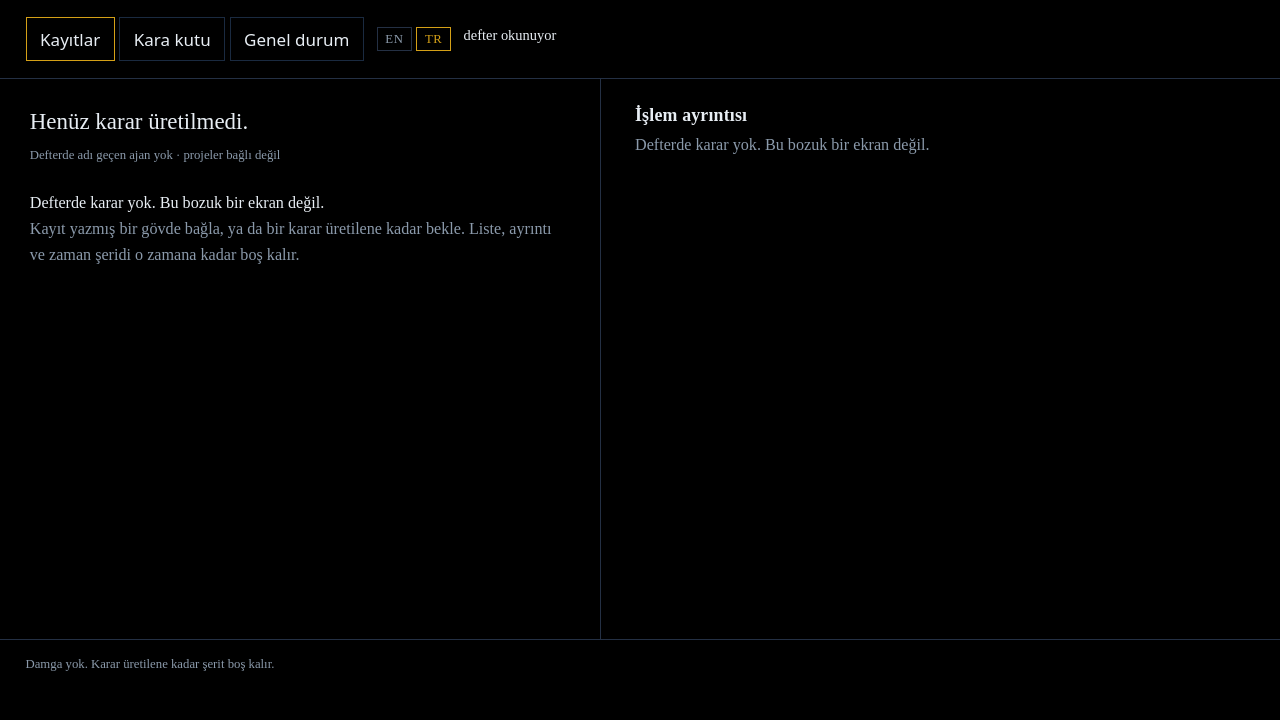
it: R11-2 approval confirmation stays on its row › closes the list confirmation when the row changes from A to B and does not approve B
Click the tab "Genel durum".
click(297, 39)  # box [230,17,364,61]
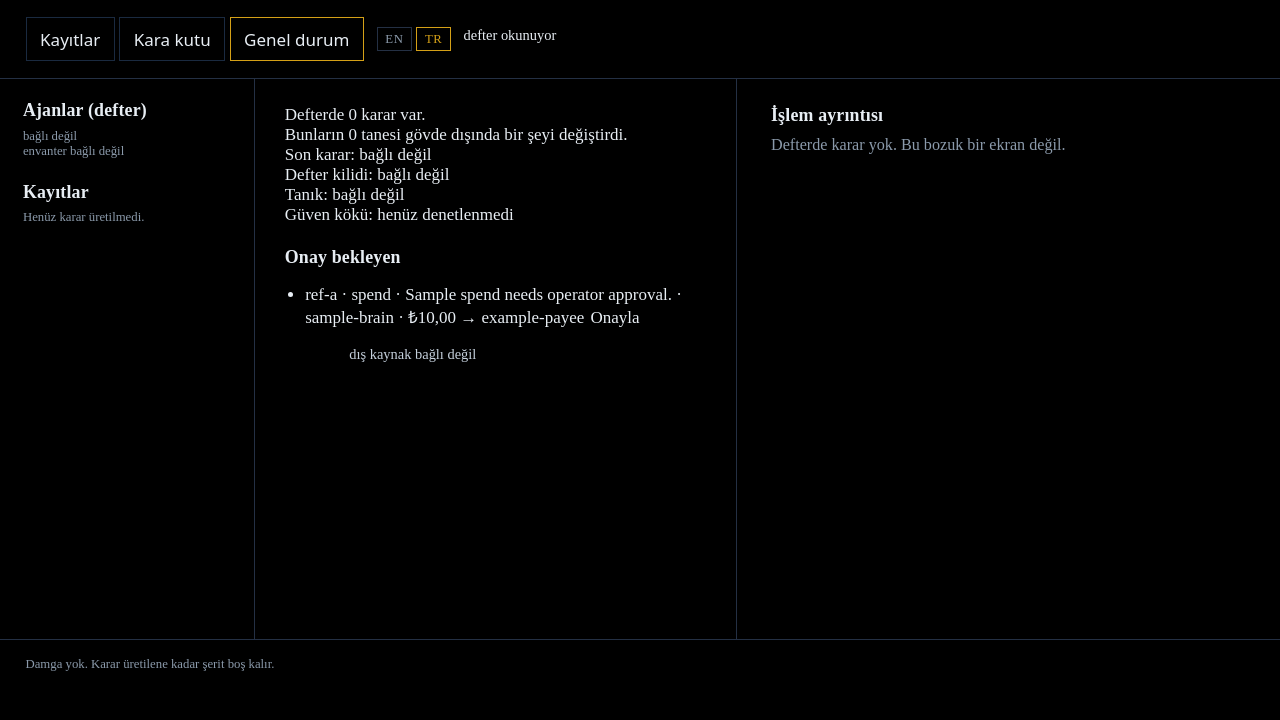
Click the button "Onayla".
click(615, 318)  # box [584,307,646,329]
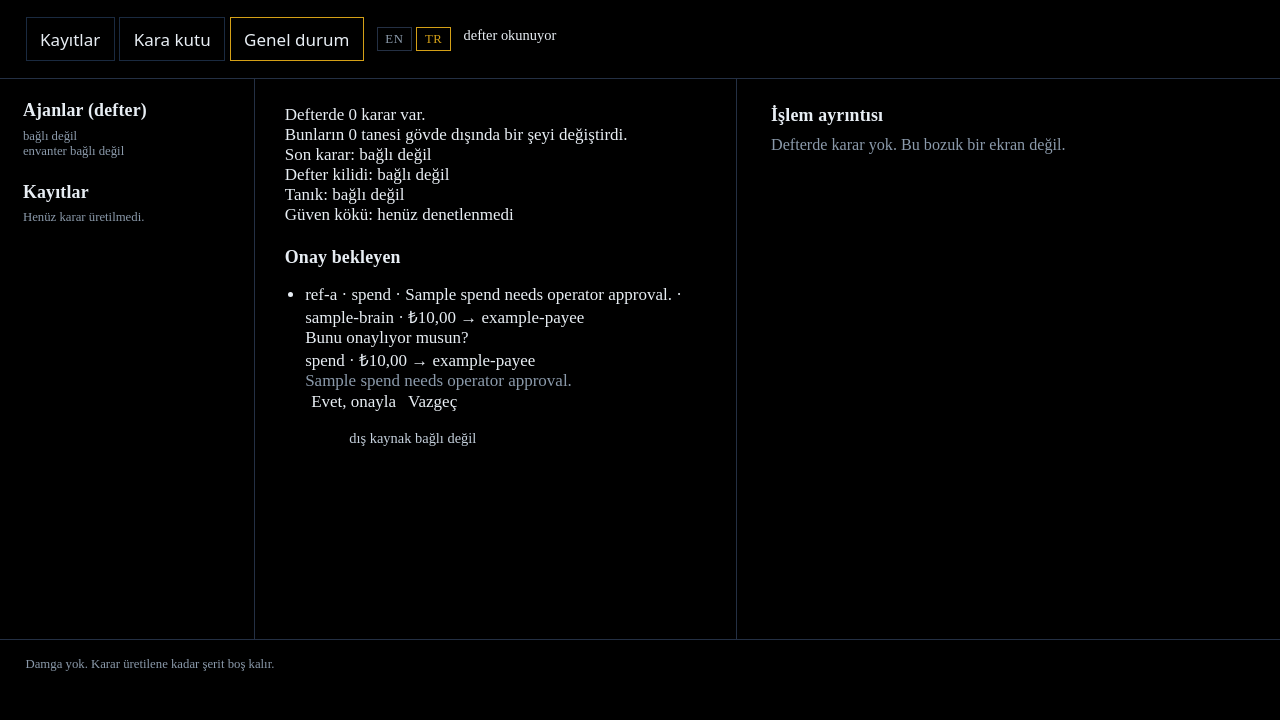
Expected: the element with test id "approve-confirm" is shown, [305,328,572,413]
